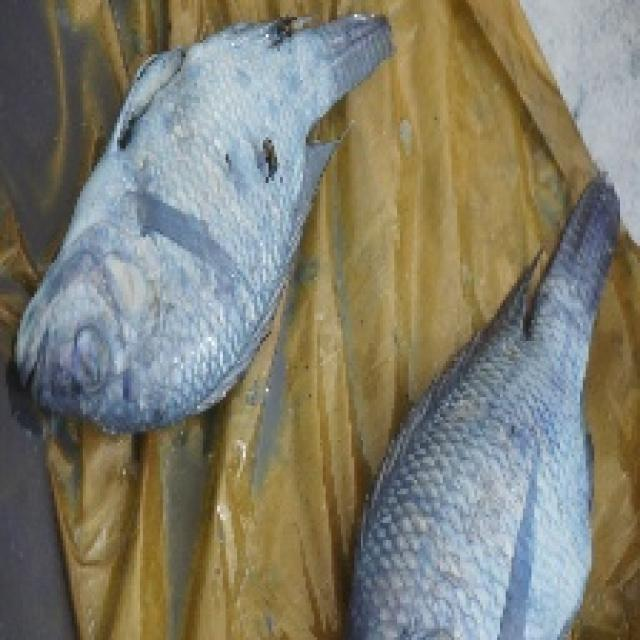Non-Fresh: (34, 51, 306, 482)
